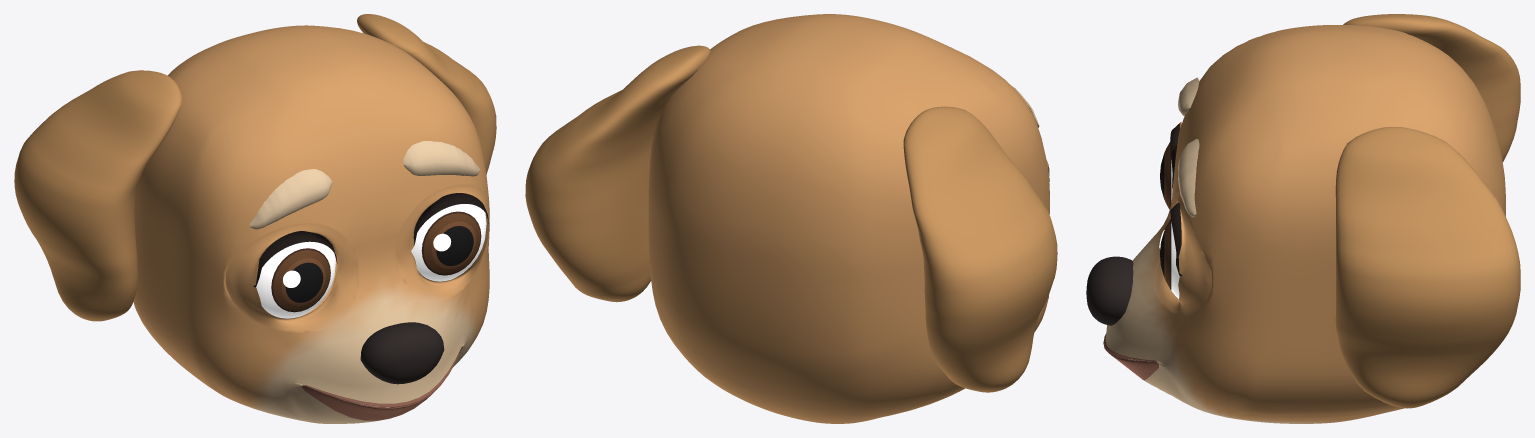
File: avatar-perro.glb
The picture shows the model from 3 angles, left to right: view 1: azimuth 30°, elevation 25°; view 2: azimuth 150°, elevation 25°; view 3: azimuth 270°, elevation 25°; orthographic projection. The views are drawn at different scales.
Visible parts, largest first — view 1: Head, Hair, Lids, Eye_R, Brows, Eye_L, Nose; view 2: Head, Hair; view 3: Head, Hair, Lids, Nose, Brows, Eye_L, Eye_R.
Part boxes in pixels (<box>): Head: <box>133,25,489,423</box>; Hair: <box>14,14,496,321</box>; Lids: <box>225,183,489,333</box>; Eye_R: <box>256,241,335,318</box>; Brows: <box>250,141,479,229</box>; Eye_L: <box>411,204,486,281</box>; Nose: <box>360,322,444,384</box>; Head: <box>648,14,1049,423</box>; Hair: <box>525,45,1057,392</box>; Head: <box>1103,25,1505,423</box>; Hair: <box>1335,14,1520,408</box>; Lids: <box>1152,122,1211,316</box>; Nose: <box>1086,256,1133,325</box>; Brows: <box>1178,77,1199,217</box>; Eye_L: <box>1159,219,1179,298</box>; Eye_R: <box>1159,142,1172,209</box>.
Bounding box in the file's own units: 2.37 × 1.72 × 1.88.
